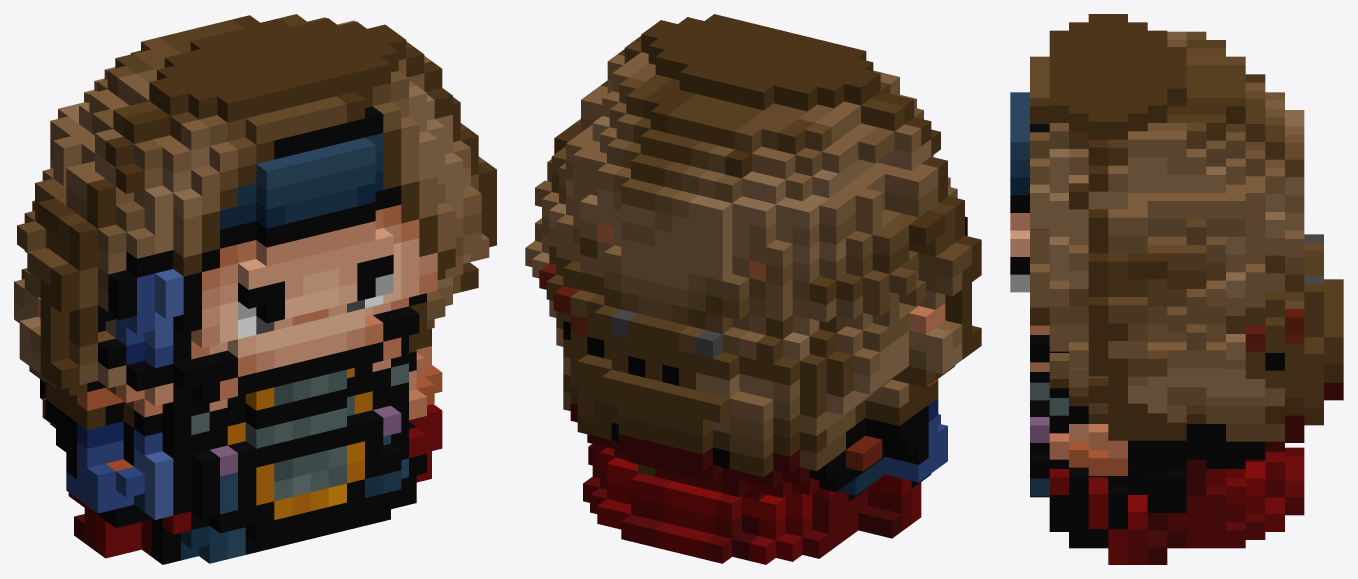
The model's file is Icon_026_03.obj.
3 renders of one model, left to right at view 1: azimuth 30°, elevation 25°; view 2: azimuth 150°, elevation 25°; view 3: azimuth 270°, elevation 25°, orthographic. The views are drawn at different scales.
Size of the model in its own units: 2.4 by 2.4 by 1.7.
